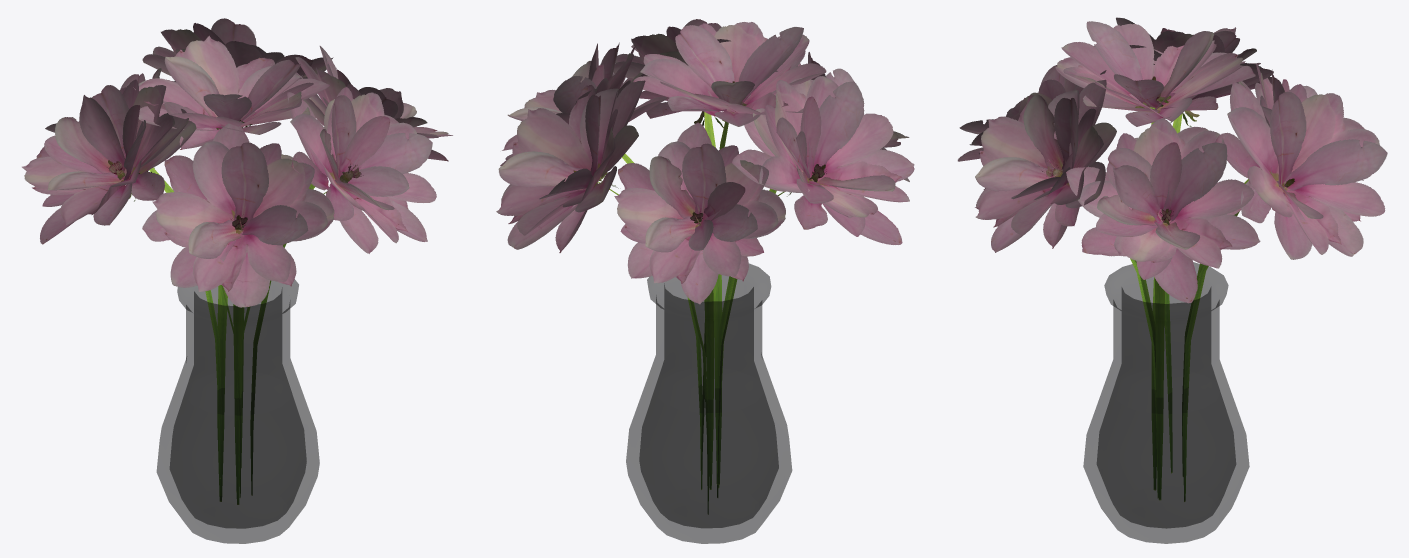
Rendered from magnolia-vase.glb.
3 views of the same model, side by side, from view 1: azimuth 30°, elevation 25°; view 2: azimuth 150°, elevation 25°; view 3: azimuth 270°, elevation 25° (orthographic).
Visible parts, largest first — view 1: flowers_magnolia_003_flowers_magnolia_0; view 2: flowers_magnolia_003_flowers_magnolia_0; view 3: flowers_magnolia_003_flowers_magnolia_0.
Boxes of the visible parts, x1,y1,x2,y2 form: flowers_magnolia_003_flowers_magnolia_0: (22, 18, 452, 543); flowers_magnolia_003_flowers_magnolia_0: (496, 19, 914, 543); flowers_magnolia_003_flowers_magnolia_0: (957, 17, 1387, 543).
Bounding box in the file's own units: 533 × 595 × 506.
4 materials, 2 textured.
